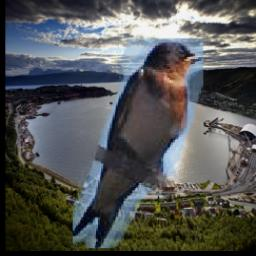Swallow: (73, 39, 203, 249)
